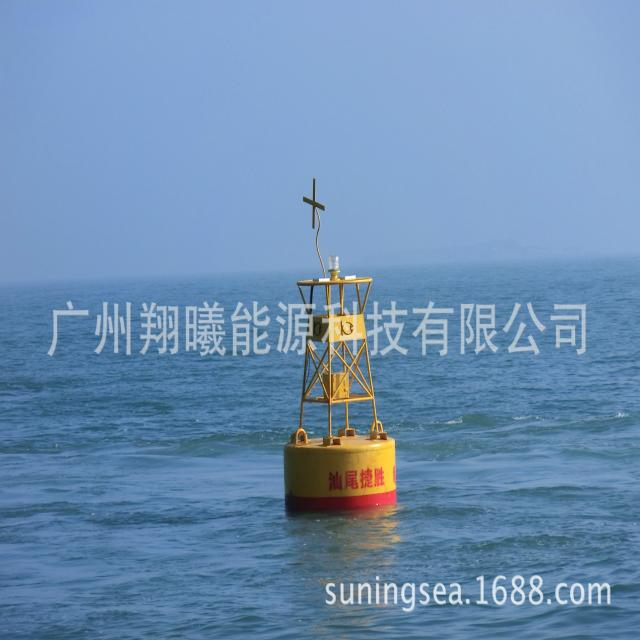buoy: (278, 179, 401, 507)
